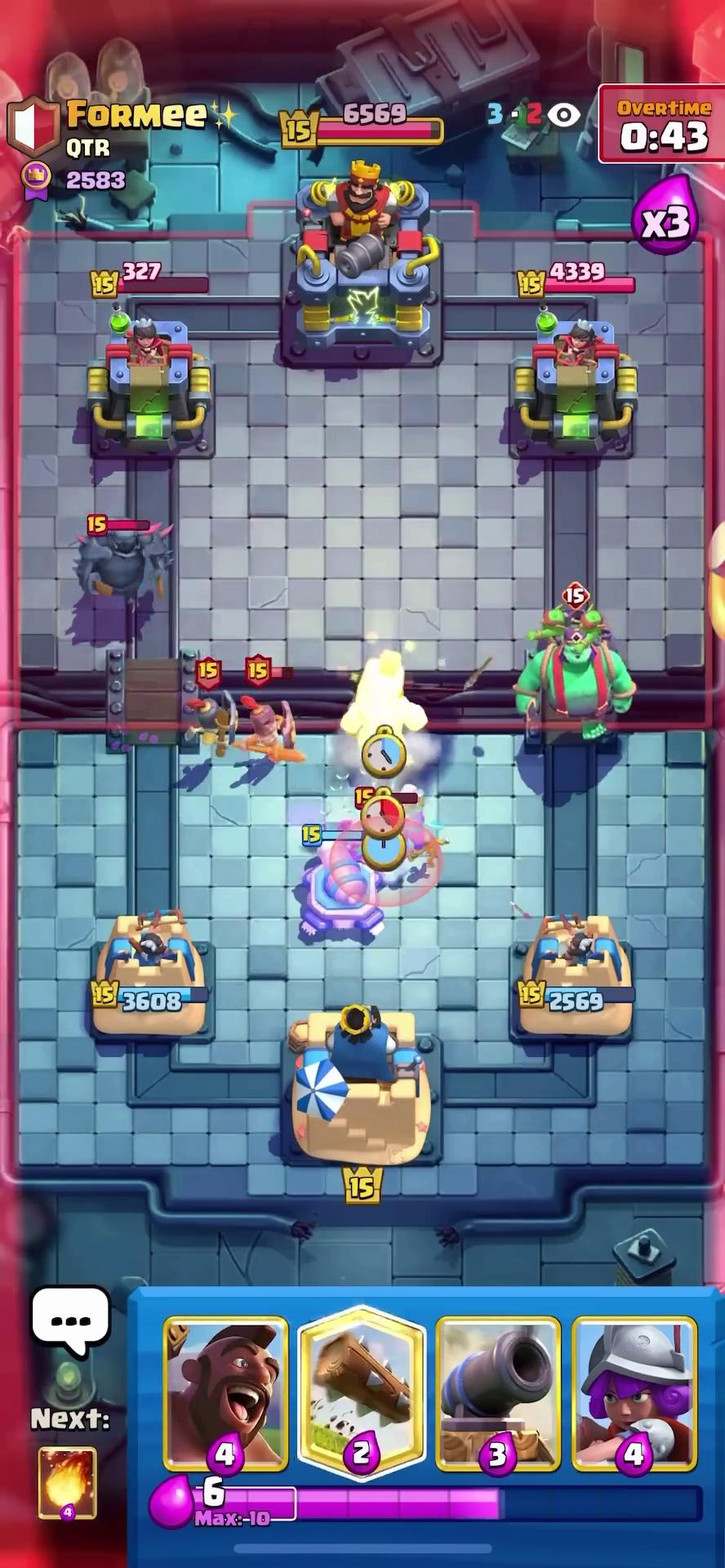cannon: (290, 821, 390, 943)
ice_golem: (333, 655, 433, 764)
